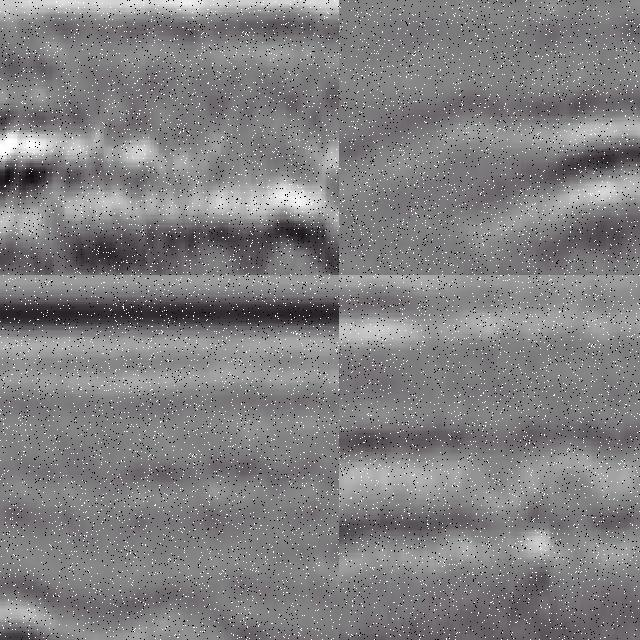loose: (468, 72, 640, 275), (1, 556, 265, 640), (340, 396, 423, 640), (1, 83, 75, 232)
